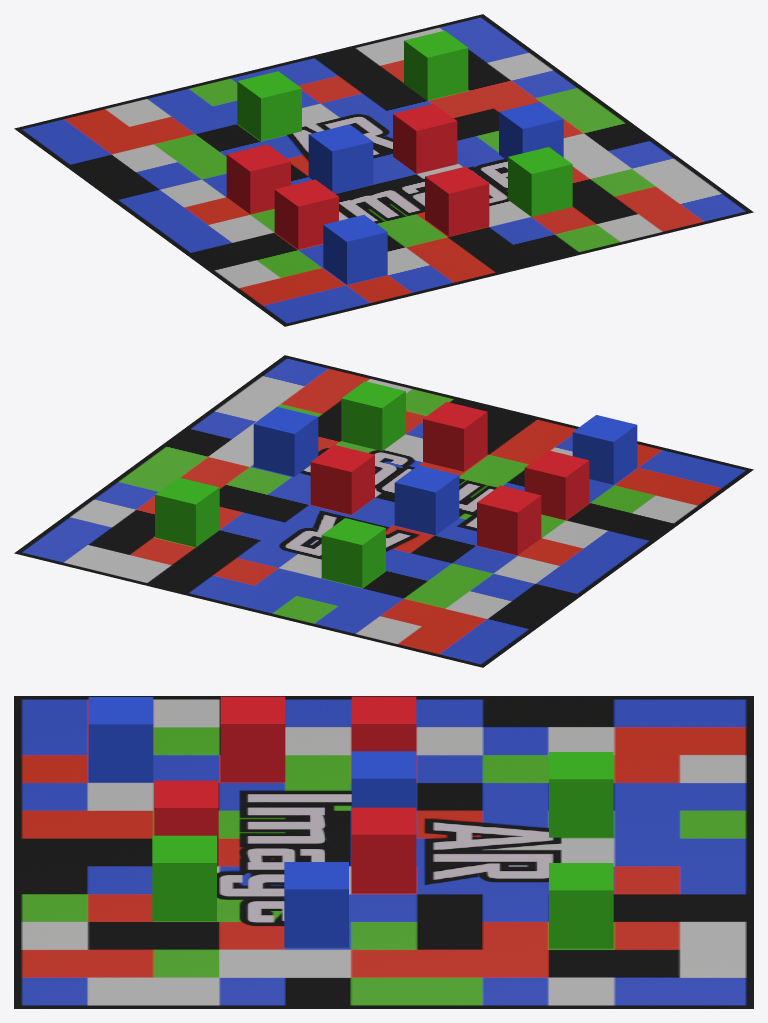
The model's file is TargetAug.glb.
3 renders of one model, top to bottom at view 1: azimuth 30°, elevation 25°; view 2: azimuth 150°, elevation 25°; view 3: azimuth 270°, elevation 25°, orthographic. The views are drawn at different scales.
Parts seen in each view (by area): view 1: ExampleImage, Cube, Cube.005, Cube.006, Cube.003, Cube.004, Cube.009, Cube.007, Cube.002, Cube.001, Cube.008; view 2: ExampleImage, Cube.007, Cube.008, Cube, Cube.001, Cube.003, Cube.005, Cube.004, Cube.006, Cube.009, Cube.002; view 3: ExampleImage, Cube, Cube.002, Cube.009, Cube.006, Cube.004, Cube.005, Cube.008, Cube.007, Cube.003, Cube.001.
Part boxes in pixels (bbox=[...]): ExampleImage: bbox=[14, 14, 753, 326]; Cube: bbox=[393, 104, 457, 173]; Cube.005: bbox=[404, 30, 468, 100]; Cube.006: bbox=[508, 147, 572, 216]; Cube.003: bbox=[425, 166, 489, 236]; Cube.004: bbox=[237, 71, 301, 141]; Cube.009: bbox=[323, 215, 387, 284]; Cube.007: bbox=[308, 124, 373, 193]; Cube.002: bbox=[274, 179, 338, 249]; Cube.001: bbox=[226, 144, 290, 214]; Cube.008: bbox=[499, 102, 563, 160]; ExampleImage: bbox=[14, 355, 753, 667]; Cube.007: bbox=[394, 465, 459, 535]; Cube.008: bbox=[253, 407, 318, 476]; Cube: bbox=[310, 445, 374, 514]; Cube.001: bbox=[477, 485, 541, 555]; Cube.003: bbox=[423, 402, 487, 471]; Cube.005: bbox=[155, 477, 219, 547]; Cube.004: bbox=[321, 518, 385, 587]; Cube.006: bbox=[341, 381, 405, 450]; Cube.009: bbox=[572, 415, 637, 484]; Cube.002: bbox=[524, 450, 589, 520]; ExampleImage: bbox=[14, 696, 753, 1008]; Cube: bbox=[351, 807, 416, 893]; Cube.002: bbox=[220, 696, 285, 782]; Cube.009: bbox=[88, 697, 153, 782]; Cube.006: bbox=[152, 835, 216, 921]; Cube.004: bbox=[549, 752, 613, 837]; Cube.005: bbox=[549, 863, 613, 948]; Cube.008: bbox=[284, 862, 348, 947]; Cube.007: bbox=[351, 751, 416, 807]; Cube.003: bbox=[154, 780, 218, 866]; Cube.001: bbox=[351, 696, 416, 751].
Size of the model in its own units: 1 by 0.0876 by 1.
4 materials, 1 textured.
